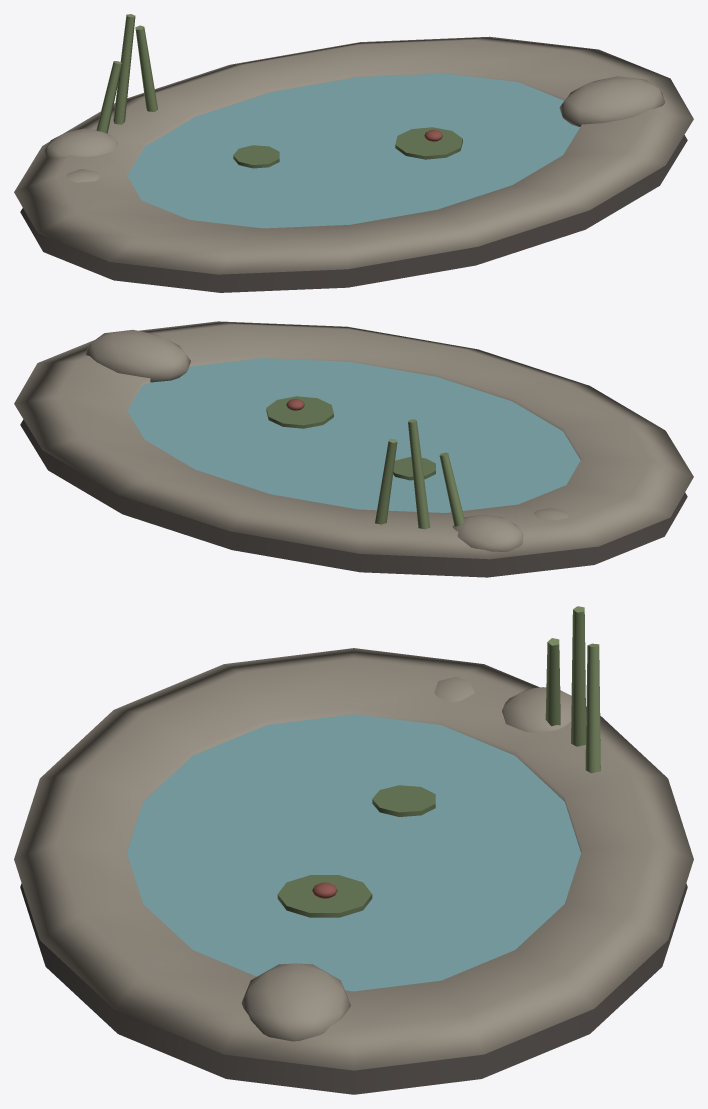
Rendered from pond.glb.
3 views of the same model, one above another, from view 1: azimuth 30°, elevation 25°; view 2: azimuth 150°, elevation 25°; view 3: azimuth 270°, elevation 25° (orthographic). The views are drawn at different scales.
Visible parts, largest first — view 1: pond; view 2: pond; view 3: pond.
Boxes of the visible parts, <box> form: pond: <box>14,14,693,292</box>; pond: <box>14,321,693,577</box>; pond: <box>14,606,693,1094</box>.
Size of the model in its own units: 2.75 by 0.5603 by 1.87.
